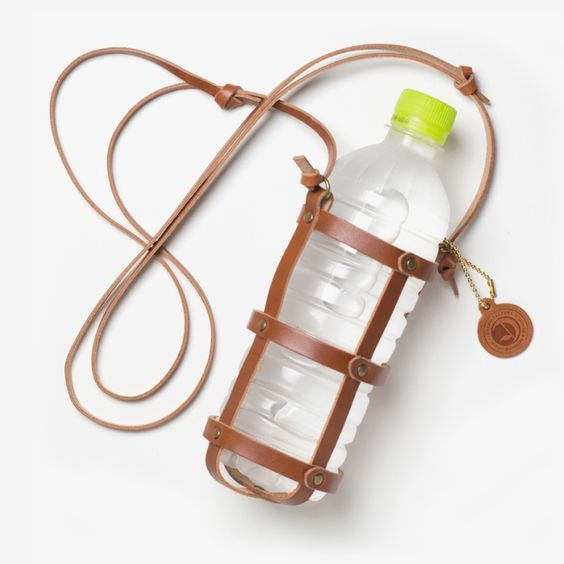cuero: (48, 42, 533, 505)
